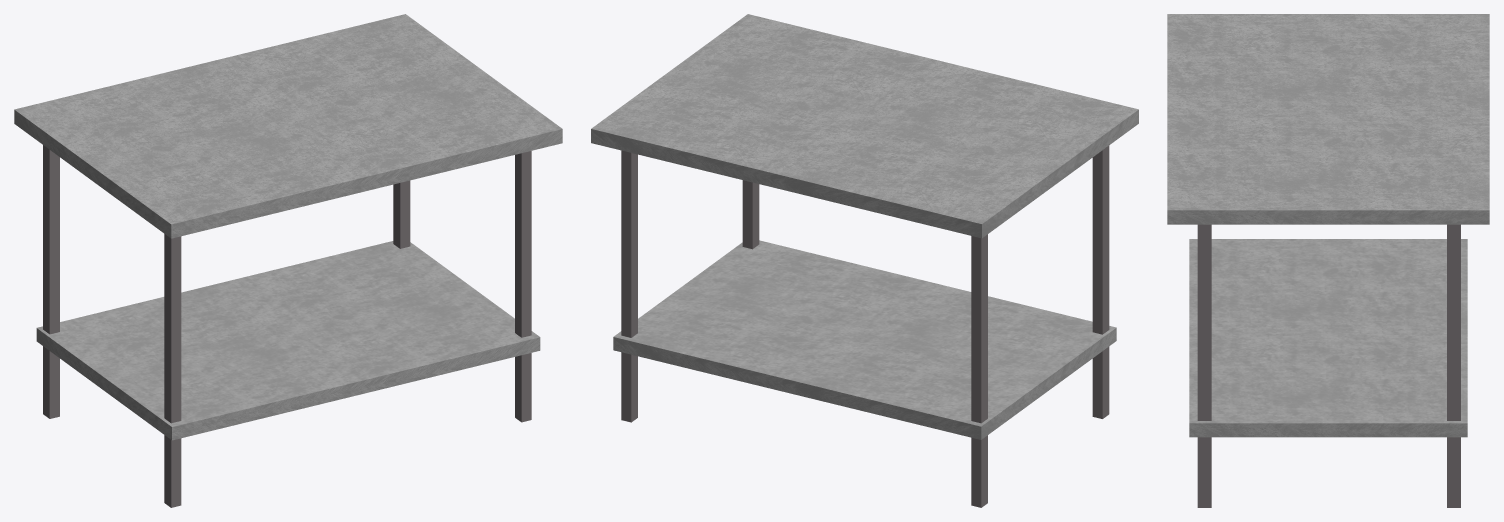
The model's file is BenchS.fbx.
3 views of the same model, side by side, from view 1: azimuth 30°, elevation 25°; view 2: azimuth 150°, elevation 25°; view 3: azimuth 270°, elevation 25° (orthographic). The views are drawn at different scales.
Parts seen in each view (by area): view 1: BenchSTop, BenchSTop.001, BenchSLegs; view 2: BenchSTop, BenchSTop.001, BenchSLegs; view 3: BenchSTop, BenchSTop.001, BenchSLegs.
Part boxes in pixels (box(x1,y1,x2,y2)): BenchSTop: box(14, 14, 562, 238); BenchSTop.001: box(36, 241, 540, 440); BenchSLegs: box(43, 145, 531, 507); BenchSTop: box(591, 14, 1138, 238); BenchSTop.001: box(613, 240, 1116, 439); BenchSLegs: box(621, 145, 1109, 507); BenchSTop: box(1167, 14, 1489, 224); BenchSTop.001: box(1189, 239, 1467, 437); BenchSLegs: box(1197, 224, 1460, 507).
Bounding box in the file's own units: 144 × 105 × 100.
